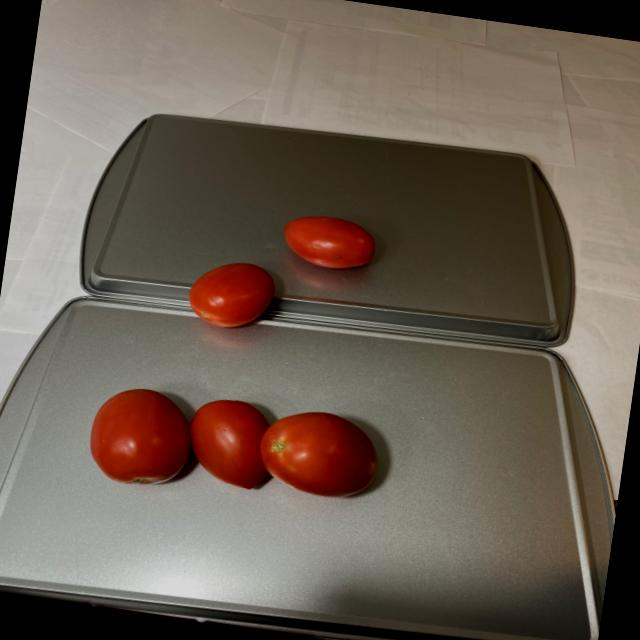tomato: (78, 376, 409, 522), (184, 200, 378, 348)
